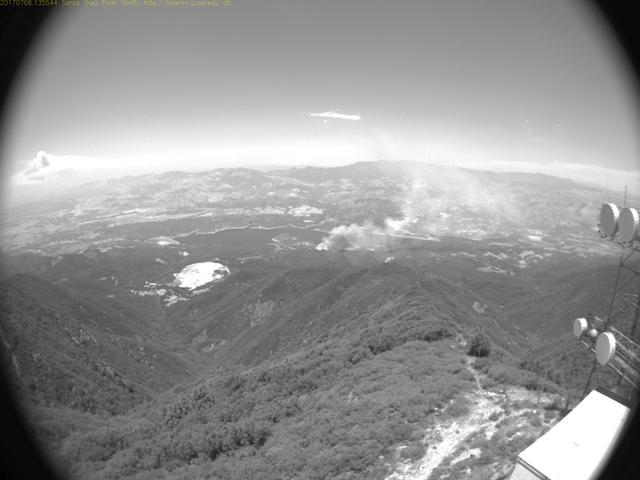smoke: (317, 151, 541, 259)
